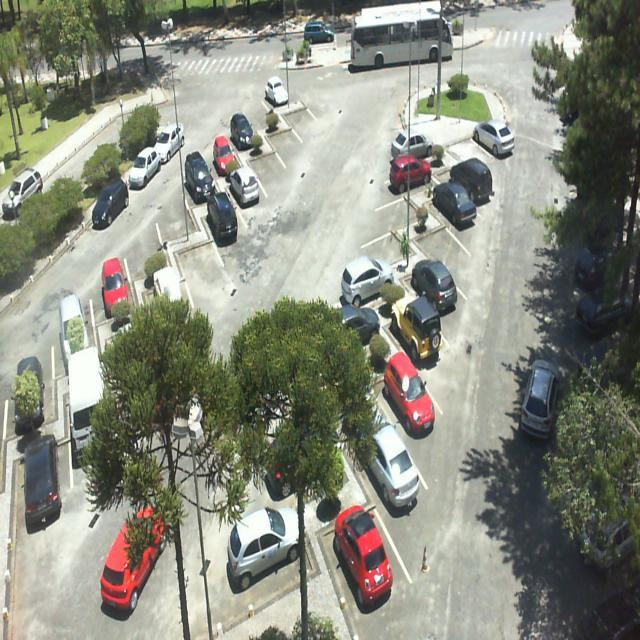space-empty: (416, 205, 469, 274), (356, 215, 414, 266), (368, 176, 426, 226), (126, 214, 167, 279), (181, 222, 220, 290), (158, 180, 196, 242), (449, 122, 492, 168), (265, 107, 303, 157), (248, 134, 285, 182), (282, 88, 318, 134), (245, 87, 276, 132)
space-occupied: (322, 488, 402, 620), (235, 500, 324, 608), (351, 401, 425, 521), (386, 287, 451, 382), (374, 355, 440, 444), (405, 251, 459, 328), (339, 250, 398, 310), (94, 245, 136, 324), (426, 173, 478, 236), (437, 147, 489, 200), (204, 189, 243, 248), (229, 159, 267, 218), (380, 150, 434, 190), (205, 125, 240, 179), (225, 105, 261, 156), (183, 151, 218, 202), (399, 126, 442, 159)
